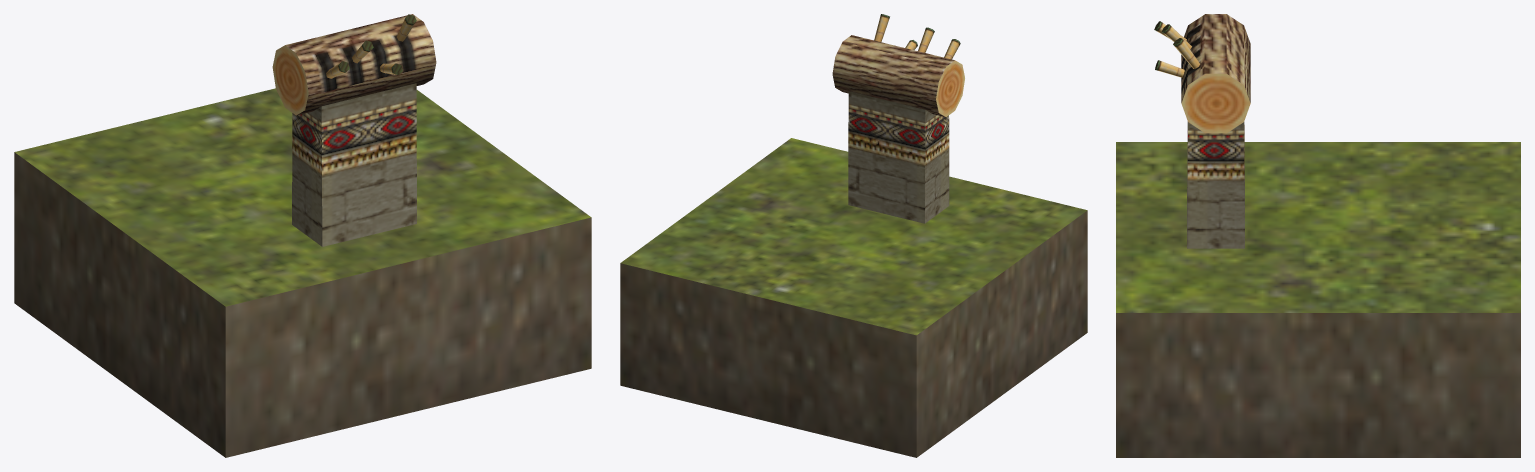
The model's file is jun_console.obj.
3 views of the same model, side by side, from view 1: azimuth 30°, elevation 25°; view 2: azimuth 150°, elevation 25°; view 3: azimuth 270°, elevation 25° (orthographic). The views are drawn at different scales.
Parts seen in each view (by area): view 1: tile_boundary_console; view 2: tile_boundary_console; view 3: tile_boundary_console.
Boxes of the visible parts, box(x1,y1,x2,y2) form: tile_boundary_console: box(14, 14, 591, 457); tile_boundary_console: box(620, 14, 1087, 457); tile_boundary_console: box(1116, 14, 1520, 457).
Size of the model in its own units: 1 by 0.9541 by 1.
Materials: 1 (1 with a texture image).
